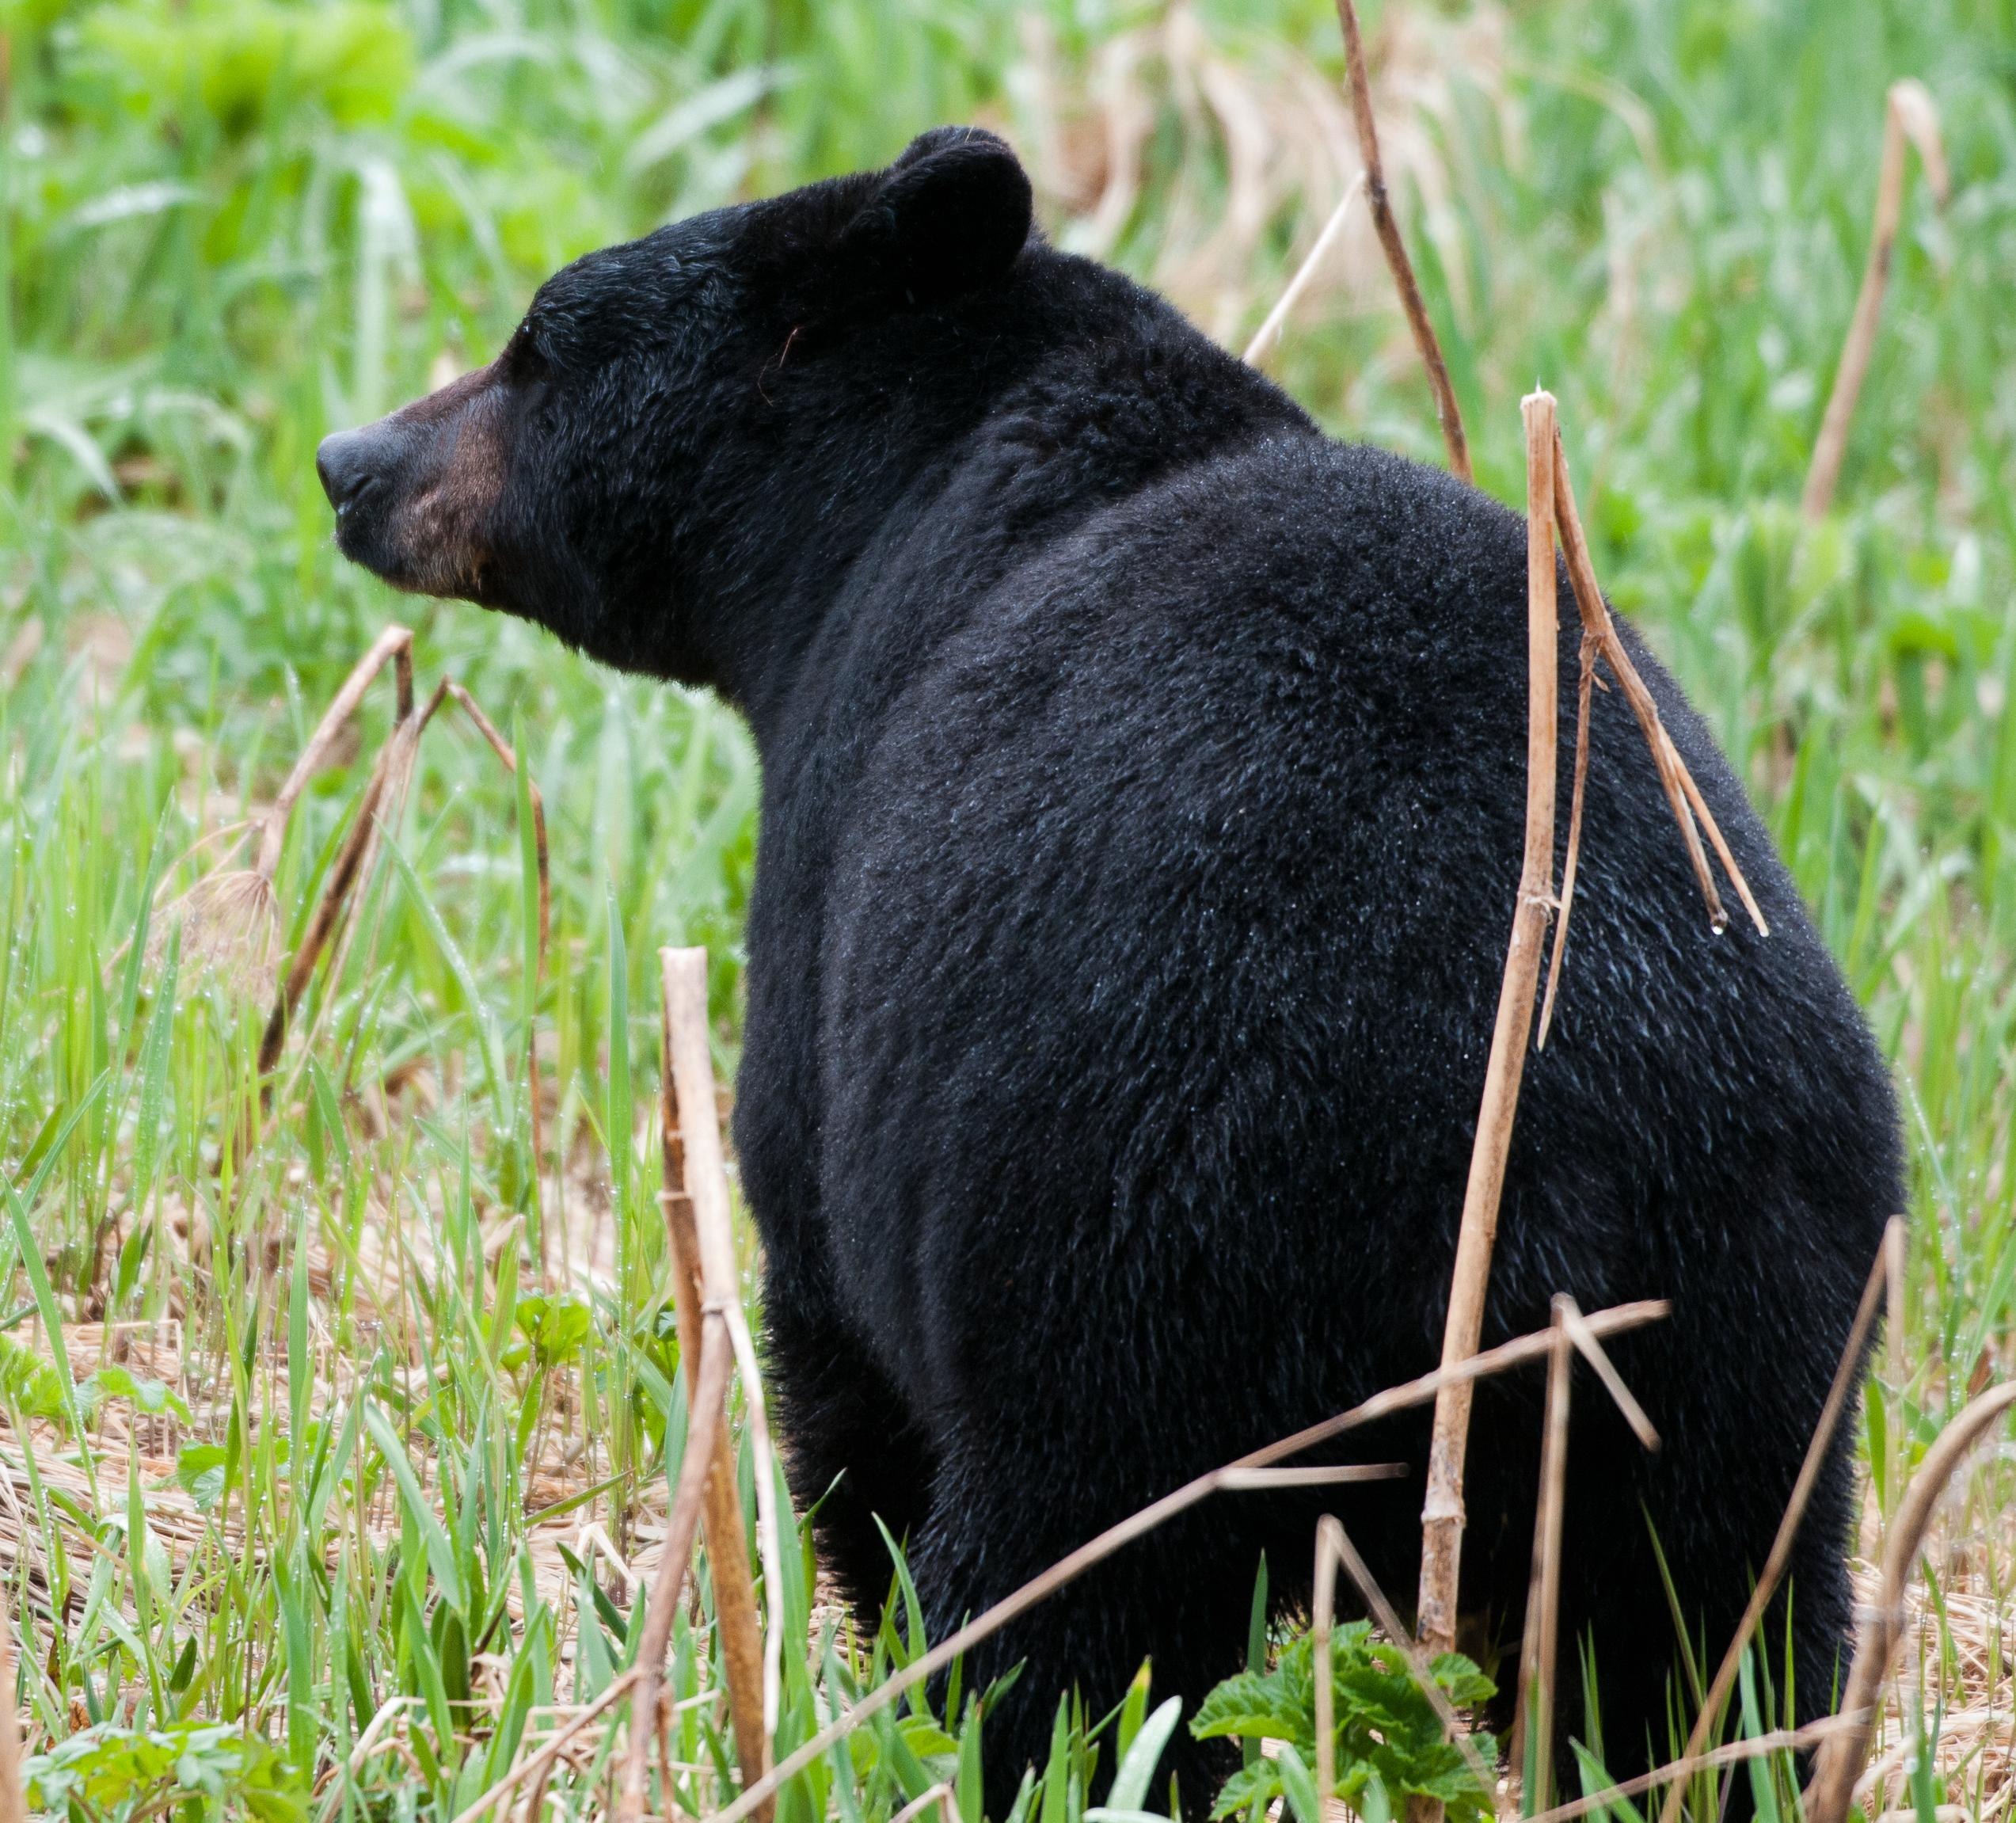bear: (311, 100, 1898, 1823)
